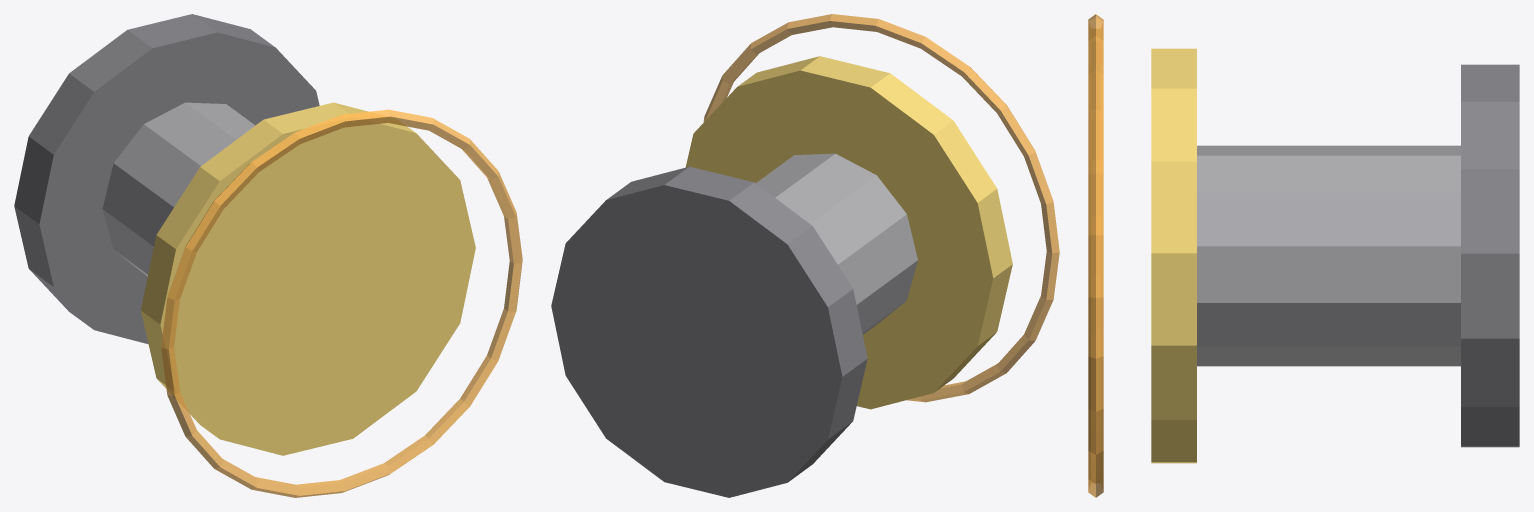
The model's file is reward_pedestal_legendary.glb.
3 views of the same model, side by side, from view 1: azimuth 30°, elevation 25°; view 2: azimuth 150°, elevation 25°; view 3: azimuth 270°, elevation 25° (orthographic). The views are drawn at different scales.
Visible parts, largest first — view 1: top, base, halo, column; view 2: base, top, column, halo; view 3: column, base, top, halo.
Boxes of the visible parts, bbox=[...] form: top: bbox=[141, 102, 475, 455]; base: bbox=[14, 14, 319, 344]; halo: bbox=[161, 109, 522, 497]; column: bbox=[102, 102, 255, 276]; base: bbox=[551, 166, 867, 497]; top: bbox=[685, 56, 1012, 409]; column: bbox=[756, 153, 917, 334]; halo: bbox=[703, 14, 1059, 402]; column: bbox=[1197, 145, 1460, 366]; base: bbox=[1461, 64, 1519, 447]; top: bbox=[1151, 48, 1196, 463]; halo: bbox=[1088, 14, 1103, 497].
Bounding box in the file's own units: 1.49 × 1.49 × 1.32.
